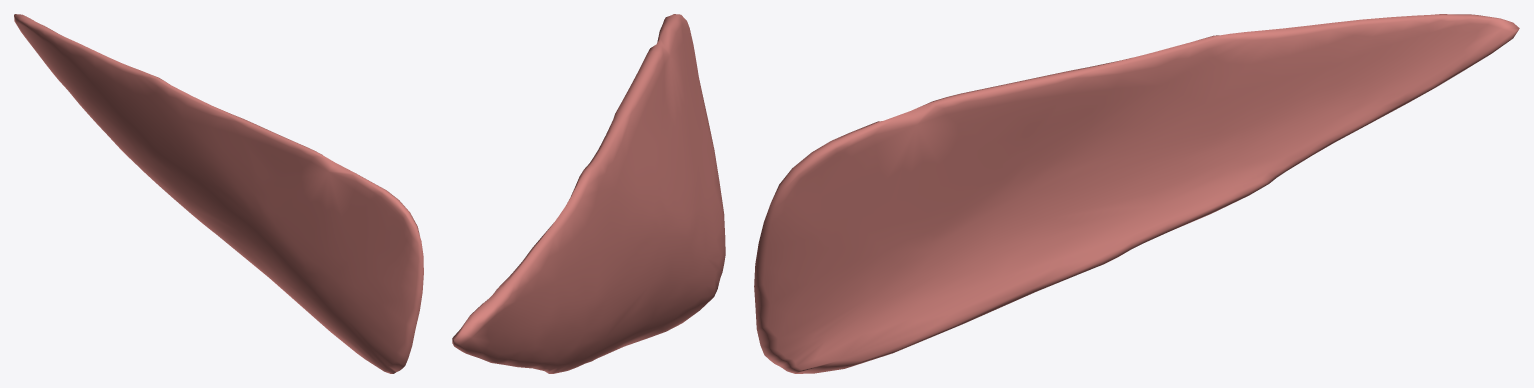
3 renders of one model, left to right at view 1: azimuth 30°, elevation 25°; view 2: azimuth 150°, elevation 25°; view 3: azimuth 270°, elevation 25°, orthographic. The views are drawn at different scales.
Visible parts, largest first — view 1: ZA_5fef0118ed5b2dec; view 2: ZA_5fef0118ed5b2dec; view 3: ZA_5fef0118ed5b2dec.
Part boxes in pixels (<box>): ZA_5fef0118ed5b2dec: <box>14,14,423,373</box>; ZA_5fef0118ed5b2dec: <box>452,14,725,373</box>; ZA_5fef0118ed5b2dec: <box>754,14,1519,373</box>.
Size of the model in its own units: 0.00814 by 0.0111 by 0.0271.
